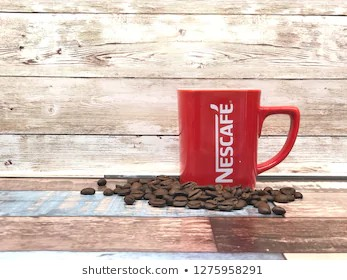nescafe-mug: (175, 82, 302, 198)
